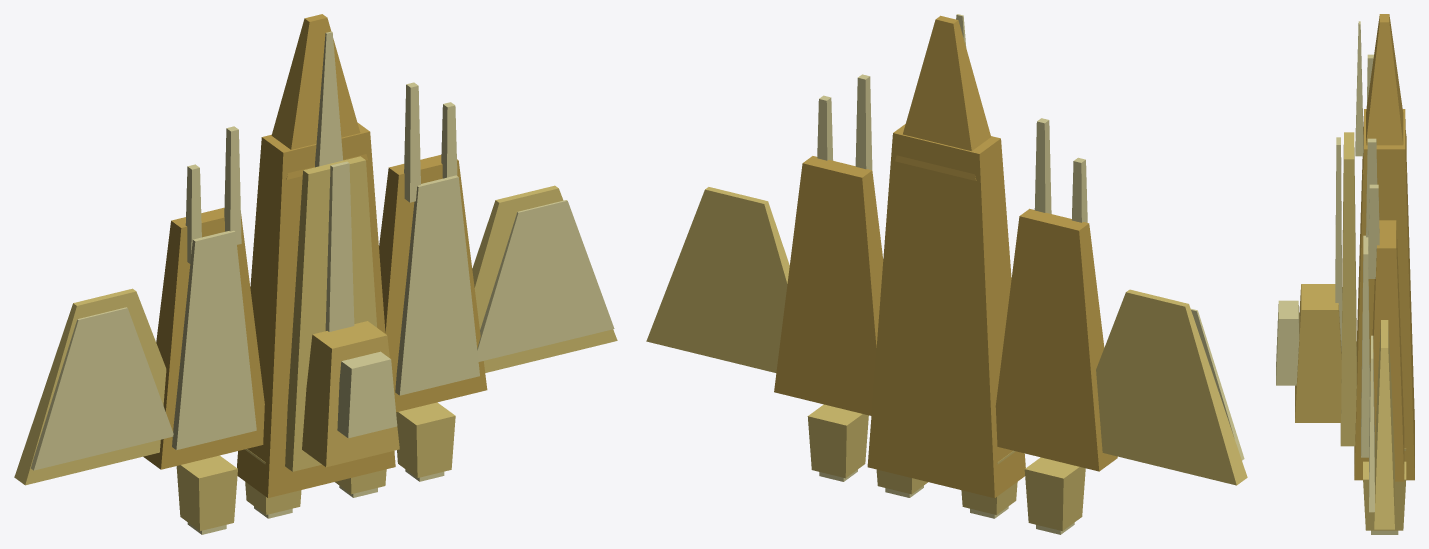
File: ship_hyperion_sun.glb
The picture shows the model from 3 angles, left to right: view 1: azimuth 30°, elevation 25°; view 2: azimuth 150°, elevation 25°; view 3: azimuth 270°, elevation 25°; orthographic projection. The views are drawn at different scales.
Visible parts, largest first — view 1: BattleshipHull; view 2: BattleshipHull; view 3: BattleshipHull.
Part boxes in pixels (left/top/right/bottom): BattleshipHull: left=14, top=14, right=617, bottom=534; BattleshipHull: left=646, top=14, right=1247, bottom=534; BattleshipHull: left=1276, top=14, right=1414, bottom=534.
Bounding box in the file's own units: 6.26 × 4.87 × 1.33.
